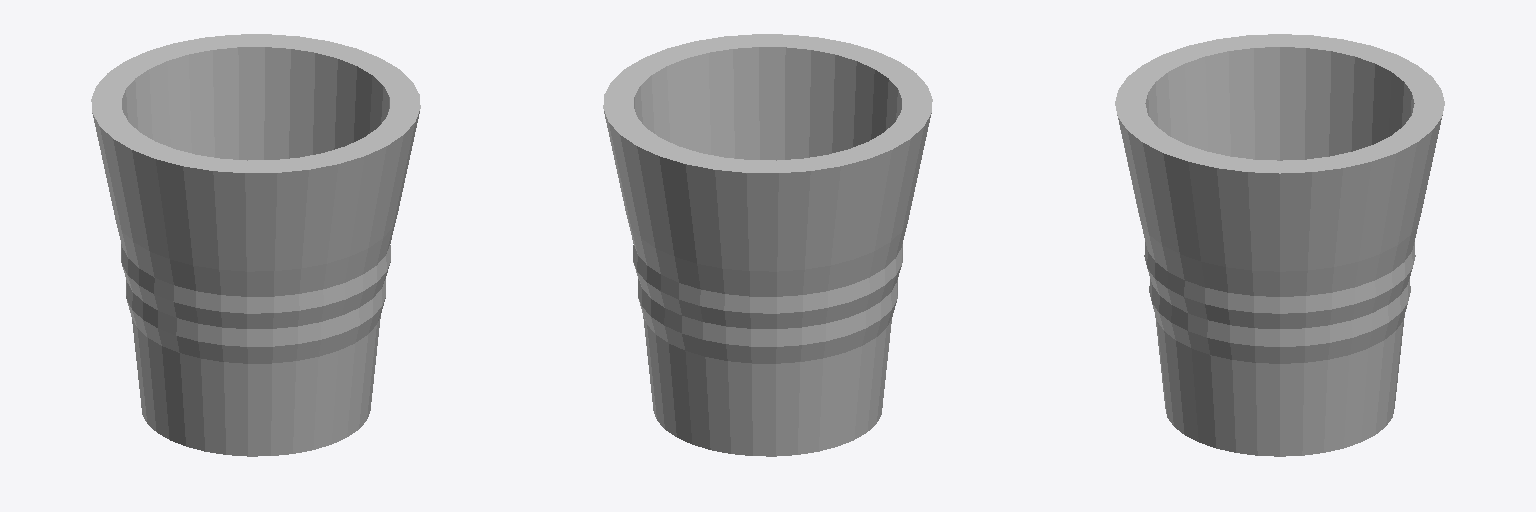
File: crapcup.obj
The picture shows the model from 3 angles: view 1: azimuth 30°, elevation 25°; view 2: azimuth 150°, elevation 25°; view 3: azimuth 270°, elevation 25°; orthographic projection.
Size of the model in its own units: 2.88 by 2.93 by 2.88.